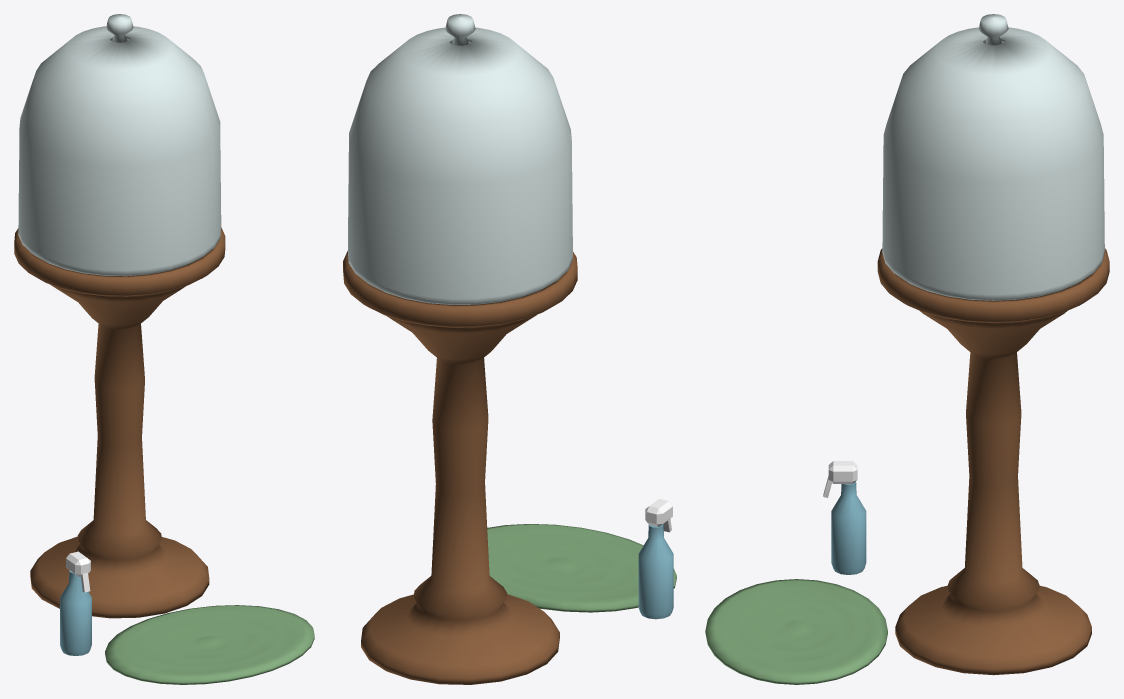
The model's file is mossTerrarium.glb.
3 renders of one model, left to right at view 1: azimuth 30°, elevation 25°; view 2: azimuth 150°, elevation 25°; view 3: azimuth 270°, elevation 25°, orthographic. The views are drawn at different scales.
Parts seen in each view (by area): view 1: cloche, body; view 2: cloche, body; view 3: body, cloche.
Part boxes in pixels (bbox=[...]): cloche: bbox=[18, 14, 221, 276]; body: bbox=[14, 227, 314, 684]; cloche: bbox=[348, 14, 572, 304]; body: bbox=[343, 250, 676, 684]; body: bbox=[705, 248, 1109, 684]; cloche: bbox=[882, 14, 1104, 300].
Bounding box in the file's own units: 0.48 × 1.17 × 0.6975.
